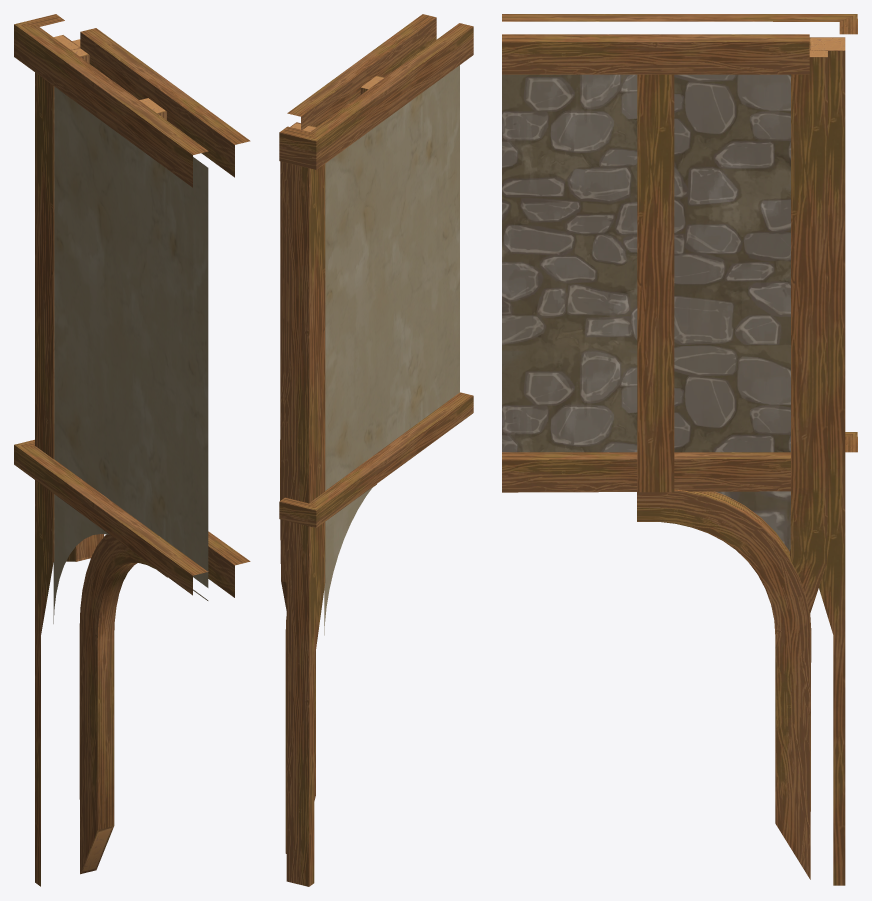
The model's file is overhang-side-unevenbrick-long-r.glb.
The picture shows the model from 3 angles, left to right: view 1: azimuth 30°, elevation 25°; view 2: azimuth 150°, elevation 25°; view 3: azimuth 270°, elevation 25°; orthographic projection. The views are drawn at different scales.
Parts seen in each view (by area): view 1: Overhang_Side_UnevenBrick_Long_R; view 2: Overhang_Side_UnevenBrick_Long_R; view 3: Overhang_Side_UnevenBrick_Long_R.
Boxes of the visible parts, x1=… form: Overhang_Side_UnevenBrick_Long_R: x1=14, y1=14, x2=250, y2=886; Overhang_Side_UnevenBrick_Long_R: x1=279, y1=14, x2=473, y2=886; Overhang_Side_UnevenBrick_Long_R: x1=502, y1=14, x2=857, y2=885.
Bounding box in the file's own units: 0.4793 × 6.12 × 2.31.
3 materials, 3 textured.
